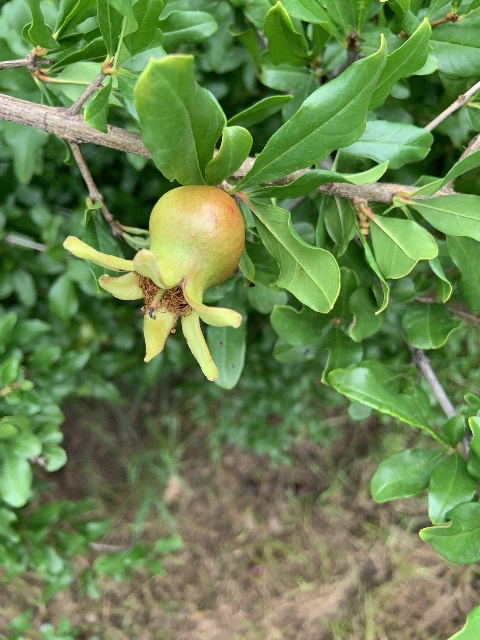early-fruit: (66, 183, 246, 381)
